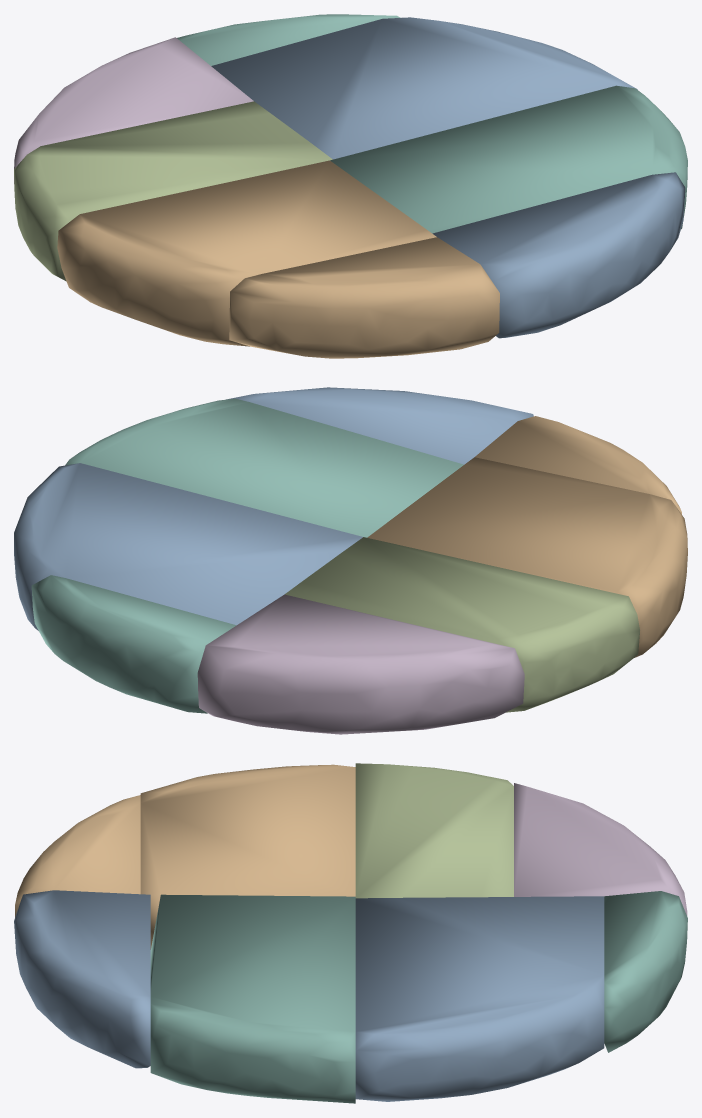
3 views of the same model, one above another, from view 1: azimuth 30°, elevation 25°; view 2: azimuth 150°, elevation 25°; view 3: azimuth 270°, elevation 25° (orthographic).
Size of the model in its own units: 2 by 0.2435 by 2.01.
